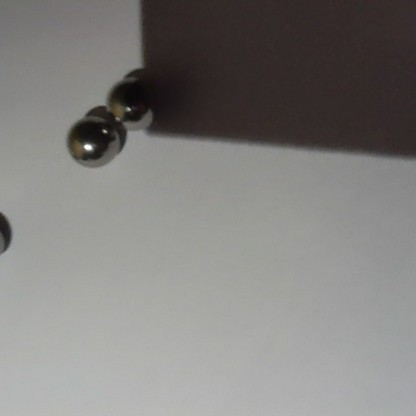ironball: (63, 116, 124, 170), (108, 78, 161, 130)
